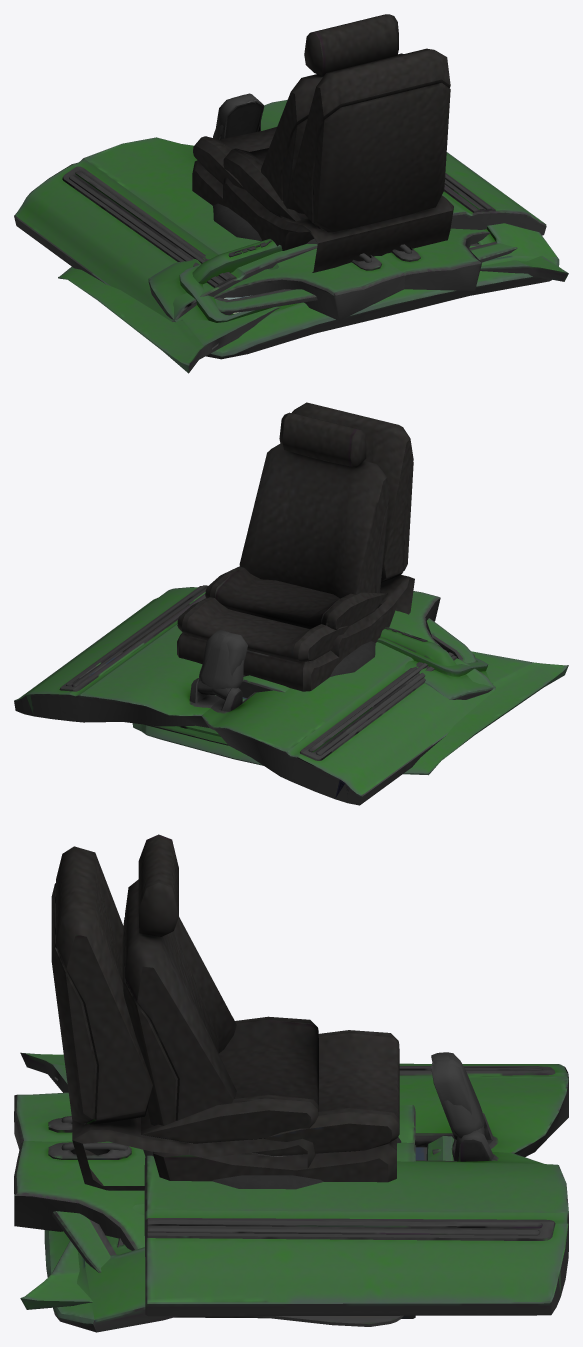
The model's file is hondacrv95_parts.fbx.
3 views of the same model, one above another, from view 1: azimuth 30°, elevation 25°; view 2: azimuth 150°, elevation 25°; view 3: azimuth 270°, elevation 25° (orthographic). The views are drawn at different scales.
Parts seen in each view (by area): view 1: hondacrv95_seat_rl_part, hondacrv95_door_fl_part, hondacrv95_trunk_part, hondacrv95_seat_fl_part, hondacrv95_door_rl_part, hondacrv95_bonnet_part, hondacrv95_door_rr_part, hondacrv95_door_fr_part, hondacrv95_wheel_part; view 2: hondacrv95_seat_fl_part, hondacrv95_door_fl_part, hondacrv95_door_fr_part, hondacrv95_seat_rl_part, hondacrv95_bonnet_part, hondacrv95_trunk_part, hondacrv95_door_rl_part, hondacrv95_door_rr_part, hondacrv95_wheel_part; view 3: hondacrv95_door_fr_part, hondacrv95_seat_fl_part, hondacrv95_seat_rl_part, hondacrv95_door_fl_part, hondacrv95_door_rr_part, hondacrv95_trunk_part, hondacrv95_door_rl_part, hondacrv95_bonnet_part, hondacrv95_wheel_part, hondacrv95_windhsield_part.
Part boxes in pixels (left/top/right/bottom): hondacrv95_seat_rl_part: left=223, top=48, right=453, bottom=272; hondacrv95_door_fl_part: left=14, top=94, right=481, bottom=321; hondacrv95_trunk_part: left=148, top=223, right=559, bottom=359; hondacrv95_seat_fl_part: left=192, top=14, right=403, bottom=250; hondacrv95_door_rl_part: left=213, top=241, right=517, bottom=320; hondacrv95_bonnet_part: left=58, top=256, right=568, bottom=373; hondacrv95_door_rr_part: left=215, top=228, right=490, bottom=315; hondacrv95_door_fr_part: left=213, top=93, right=546, bottom=235; hondacrv95_wheel_part: left=213, top=203, right=317, bottom=244; hondacrv95_seat_fl_part: left=177, top=412, right=388, bottom=691; hondacrv95_door_fl_part: left=199, top=627, right=495, bottom=805; hondacrv95_door_fr_part: left=14, top=585, right=243, bottom=727; hondacrv95_seat_rl_part: left=205, top=402, right=414, bottom=656; hondacrv95_bonnet_part: left=132, top=651, right=568, bottom=775; hondacrv95_trunk_part: left=145, top=627, right=495, bottom=745; hondacrv95_door_rl_part: left=239, top=591, right=442, bottom=698; hondacrv95_door_rr_part: left=427, top=618, right=476, bottom=663; hondacrv95_wheel_part: left=243, top=641, right=375, bottom=676; hondacrv95_door_fr_part: left=144, top=1055, right=568, bottom=1316; hondacrv95_seat_fl_part: left=122, top=834, right=399, bottom=1182; hondacrv95_seat_rl_part: left=51, top=846, right=318, bottom=1190; hondacrv95_door_fl_part: left=117, top=1052, right=568, bottom=1247; hondacrv95_door_rr_part: left=14, top=1141, right=415, bottom=1318; hondacrv95_trunk_part: left=44, top=1136, right=454, bottom=1332; hondacrv95_door_rl_part: left=14, top=1092, right=415, bottom=1272; hondacrv95_bonnet_part: left=20, top=1052, right=92, bottom=1309; hondacrv95_wheel_part: left=143, top=1137, right=401, bottom=1189; hondacrv95_windhsield_part: left=254, top=1147, right=426, bottom=1326.
Size of the model in its own units: 128 by 83.57 by 115.
